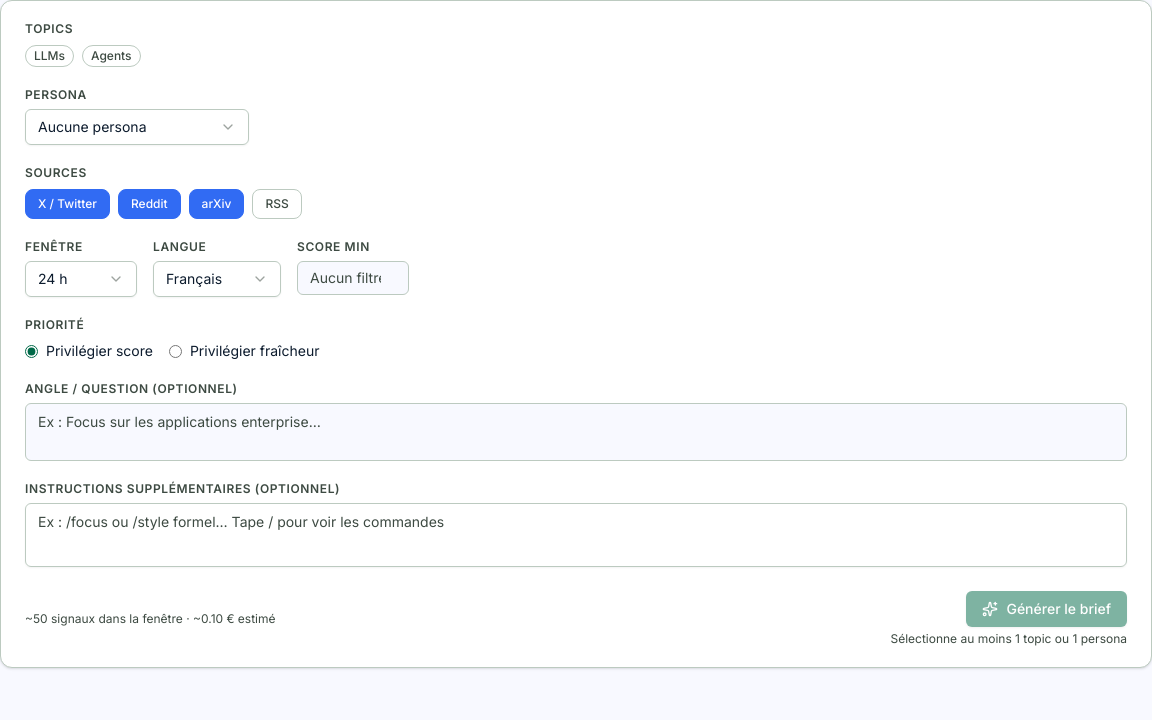
it: DigestScopePanel › bouton actif si au moins un topic est sélectionné
This screenshot has width=1152, height=720.
Note: Clic sur le premier badge topic (LLMs)
Click the checkbox with test id "topic-badge-topic-1" at (50, 56), box x1=25 y1=45 x2=74 y2=67
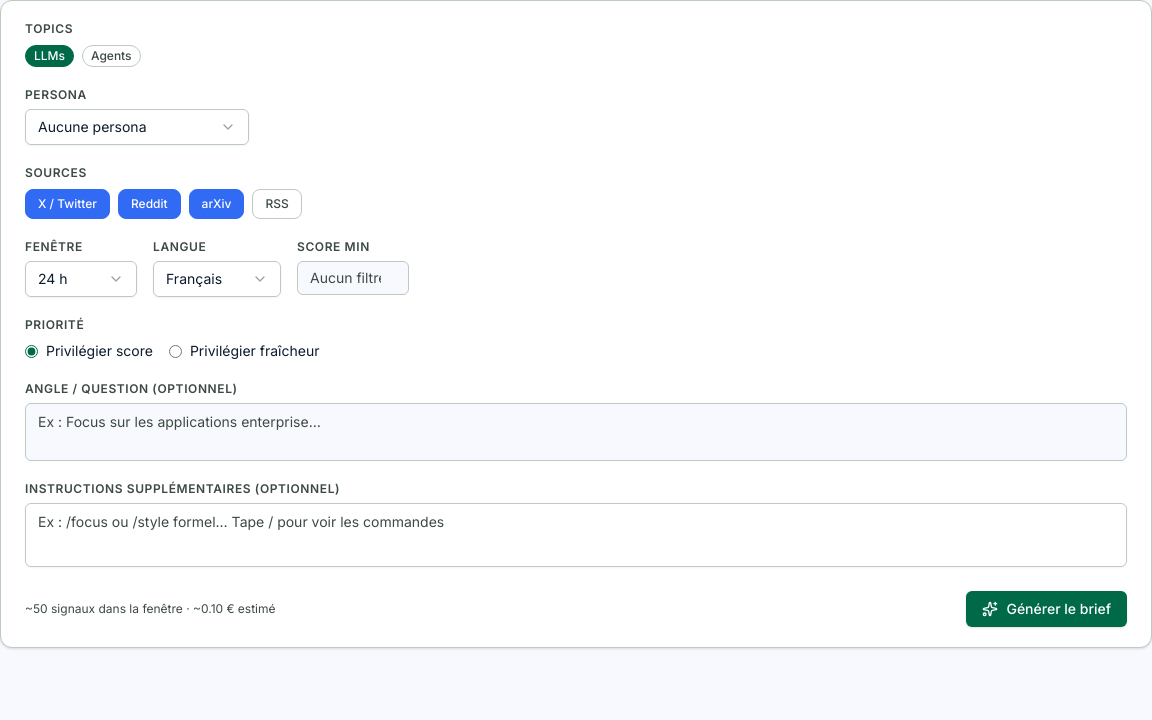
Now the button with test id "generate-button" is enabled, box x1=966 y1=591 x2=1127 y2=627
Now the text "Sélectionne au moins 1 topic ou 1 persona" is gone
